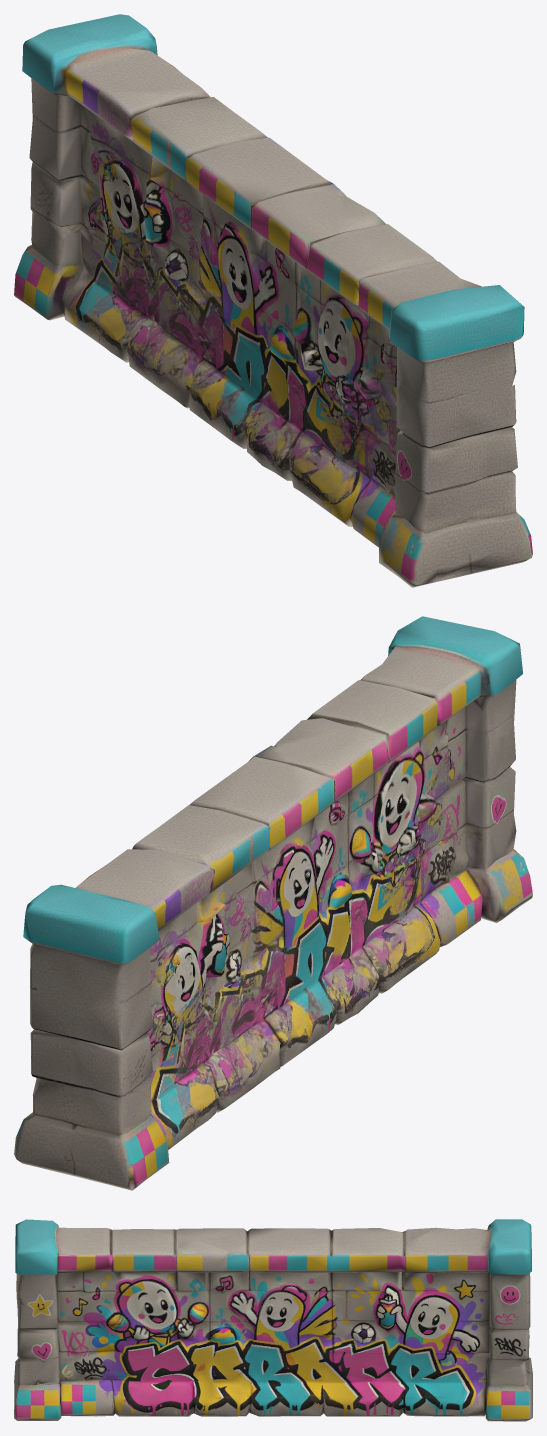
File: CenarioMuro.glb
3 views of the same model, one above another, from view 1: azimuth 30°, elevation 25°; view 2: azimuth 150°, elevation 25°; view 3: azimuth 270°, elevation 25° (orthographic). The views are drawn at different scales.
Parts seen in each view (by area): view 1: tripo_node_5969639f-999a-42a6-bd20-7b8383ec05a1; view 2: tripo_node_5969639f-999a-42a6-bd20-7b8383ec05a1; view 3: tripo_node_5969639f-999a-42a6-bd20-7b8383ec05a1.
Part boxes in pixels (box(x1,y1,x2,y2)): tripo_node_5969639f-999a-42a6-bd20-7b8383ec05a1: box(14, 14, 532, 587); tripo_node_5969639f-999a-42a6-bd20-7b8383ec05a1: box(14, 616, 532, 1190); tripo_node_5969639f-999a-42a6-bd20-7b8383ec05a1: box(14, 1219, 532, 1421).
Bounding box in the file's own units: 0.1485 × 0.3 × 0.8337.
1 material, 1 textured.
